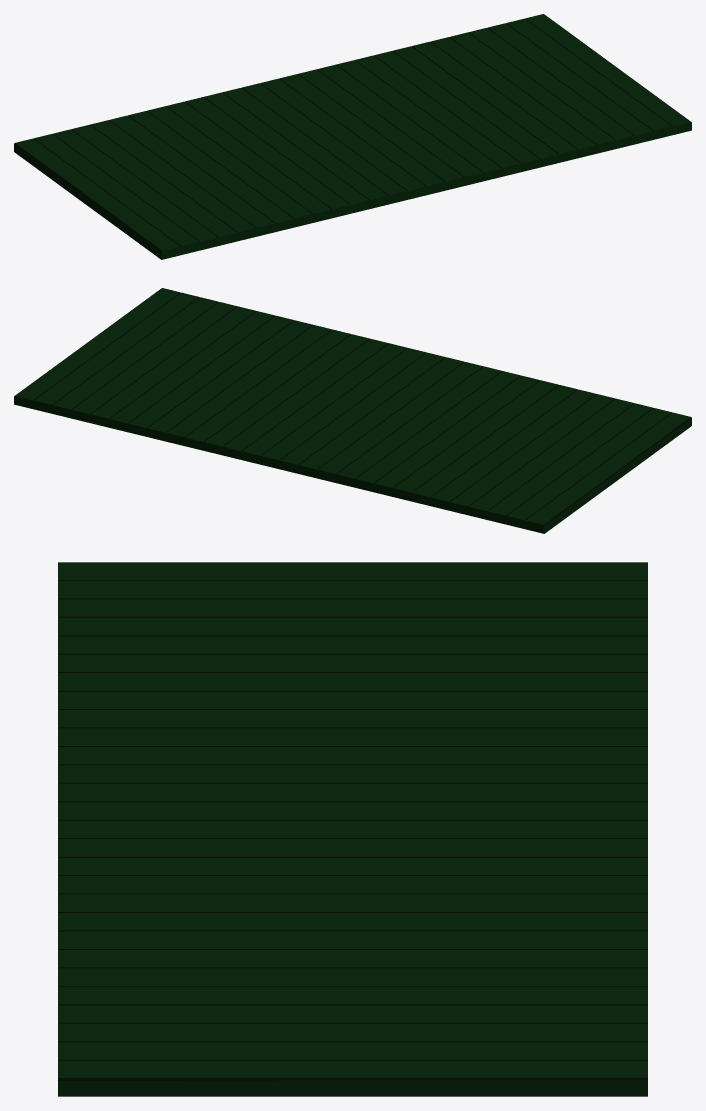
Rendered from lantai.obj.
3 renders of one model, top to bottom at view 1: azimuth 30°, elevation 25°; view 2: azimuth 150°, elevation 25°; view 3: azimuth 270°, elevation 25°, orthographic. The views are drawn at different scales.
Parts seen in each view (by area): view 1: Cube.065_Cube.066, Cube.039_Cube.040, Cube.019_Cube.020, Cube.012_Cube.013, Cube.016_Cube.017, Cube.047_Cube.048, Cube.043_Cube.044, Cube.049_Cube.050, Cube.061_Cube.062, Cube.059_Cube.060, Cube.045_Cube.046, Cube.063_Cube.064 (+44 smaller); view 2: Cube.065_Cube.066, Cube.039_Cube.040, Cube.010_Cube.011, Cube.049_Cube.050, Cube.043_Cube.044, Cube.047_Cube.048, Cube.016_Cube.017, Cube.061_Cube.062, Cube.063_Cube.064, Cube.021_Cube.022, Cube.030_Cube.031, Cube.012_Cube.013 (+44 smaller); view 3: Cube.068_Cube.069, Cube.012_Cube.013, Cube.016_Cube.017, Cube.019_Cube.020, Cube.023_Cube.024, Cube.043_Cube.044, Cube.047_Cube.048, Cube.061_Cube.062, Cube.065_Cube.066, Cube.010_Cube.011, Cube.014_Cube.015, Cube.018_Cube.019 (+44 smaller).
Boxes of the visible parts, left/top/right/bottom form: Cube.065_Cube.066: left=14, top=138, right=181, bottom=259; Cube.039_Cube.040: left=261, top=79, right=427, bottom=199; Cube.019_Cube.020: left=394, top=46, right=559, bottom=167; Cube.012_Cube.013: left=432, top=37, right=597, bottom=158; Cube.016_Cube.017: left=469, top=28, right=635, bottom=148; Cube.047_Cube.048: left=186, top=97, right=351, bottom=218; Cube.043_Cube.044: left=224, top=88, right=389, bottom=208; Cube.049_Cube.050: left=167, top=101, right=332, bottom=222; Cube.061_Cube.062: left=53, top=129, right=219, bottom=250; Cube.059_Cube.060: left=72, top=125, right=238, bottom=245; Cube.045_Cube.046: left=205, top=92, right=370, bottom=213; Cube.063_Cube.064: left=34, top=134, right=199, bottom=254; Cube.065_Cube.066: left=525, top=412, right=691, bottom=533; Cube.039_Cube.040: left=278, top=353, right=444, bottom=473; Cube.010_Cube.011: left=127, top=316, right=292, bottom=436; Cube.049_Cube.050: left=373, top=375, right=538, bottom=496; Cube.043_Cube.044: left=316, top=362, right=481, bottom=482; Cube.047_Cube.048: left=354, top=371, right=519, bottom=492; Cube.016_Cube.017: left=70, top=302, right=236, bottom=422; Cube.061_Cube.062: left=486, top=403, right=652, bottom=524; Cube.063_Cube.064: left=505, top=408, right=671, bottom=529; Cube.021_Cube.022: left=165, top=325, right=330, bottom=446; Cube.030_Cube.031: left=241, top=343, right=406, bottom=464; Cube.012_Cube.013: left=108, top=311, right=273, bottom=432; Cube.068_Cube.069: left=58, top=1061, right=647, bottom=1096; Cube.012_Cube.013: left=58, top=968, right=647, bottom=985; Cube.016_Cube.017: left=58, top=1005, right=647, bottom=1022; Cube.019_Cube.020: left=58, top=931, right=647, bottom=948; Cube.023_Cube.024: left=58, top=894, right=647, bottom=911; Cube.043_Cube.044: left=58, top=765, right=647, bottom=782; Cube.047_Cube.048: left=58, top=728, right=647, bottom=745; Cube.061_Cube.062: left=58, top=599, right=647, bottom=616; Cube.065_Cube.066: left=58, top=562, right=647, bottom=579; Cube.010_Cube.011: left=58, top=950, right=647, bottom=966; Cube.014_Cube.015: left=58, top=987, right=647, bottom=1003; Cube.018_Cube.019: left=58, top=1024, right=647, bottom=1040.
Size of the model in its own units: 67.35 by 1.08 by 32.45.
